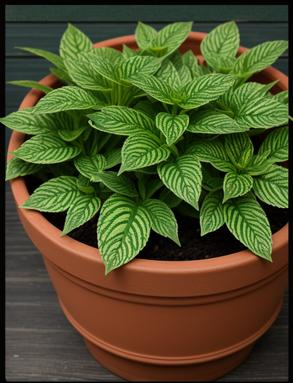pottedplant: (5, 21, 289, 380)
